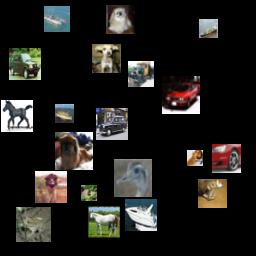automobile: (162, 76, 200, 114), (9, 48, 41, 80), (96, 108, 128, 140), (212, 144, 241, 173)
bird: (114, 159, 152, 197), (35, 171, 67, 203), (81, 185, 97, 201)
cat: (198, 179, 227, 208), (187, 150, 203, 166)
dog: (55, 132, 93, 170), (106, 5, 135, 34), (92, 44, 121, 73)
frog: (16, 207, 51, 242)
ship: (125, 199, 157, 231), (44, 6, 70, 32), (55, 104, 74, 123), (199, 19, 218, 38)
truck: (128, 61, 154, 87)
